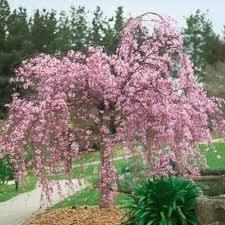tree: (4, 8, 225, 211)
